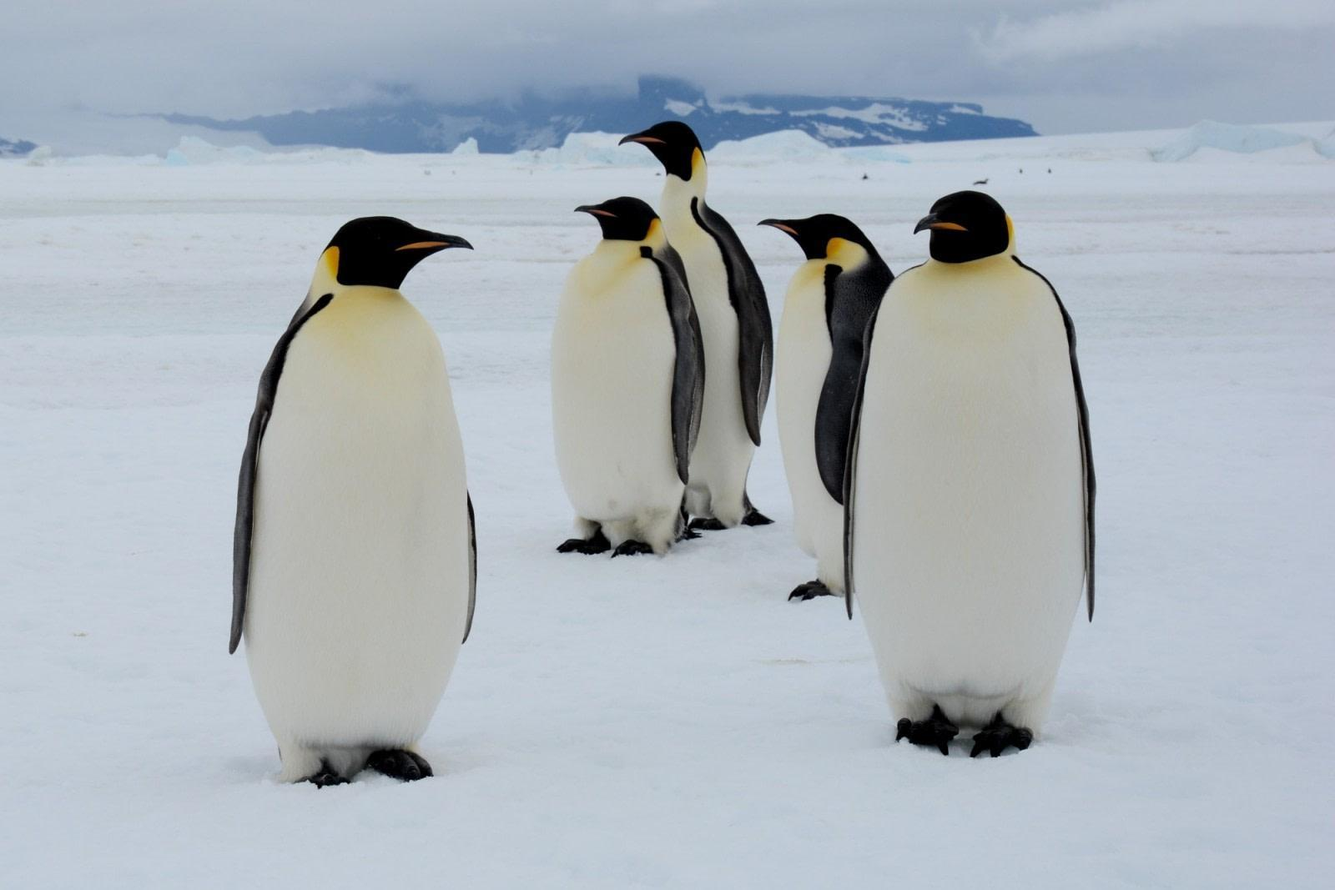Penguin: (845, 190, 1096, 756), (229, 216, 476, 787), (621, 120, 772, 529), (550, 199, 703, 556), (758, 214, 894, 597)
